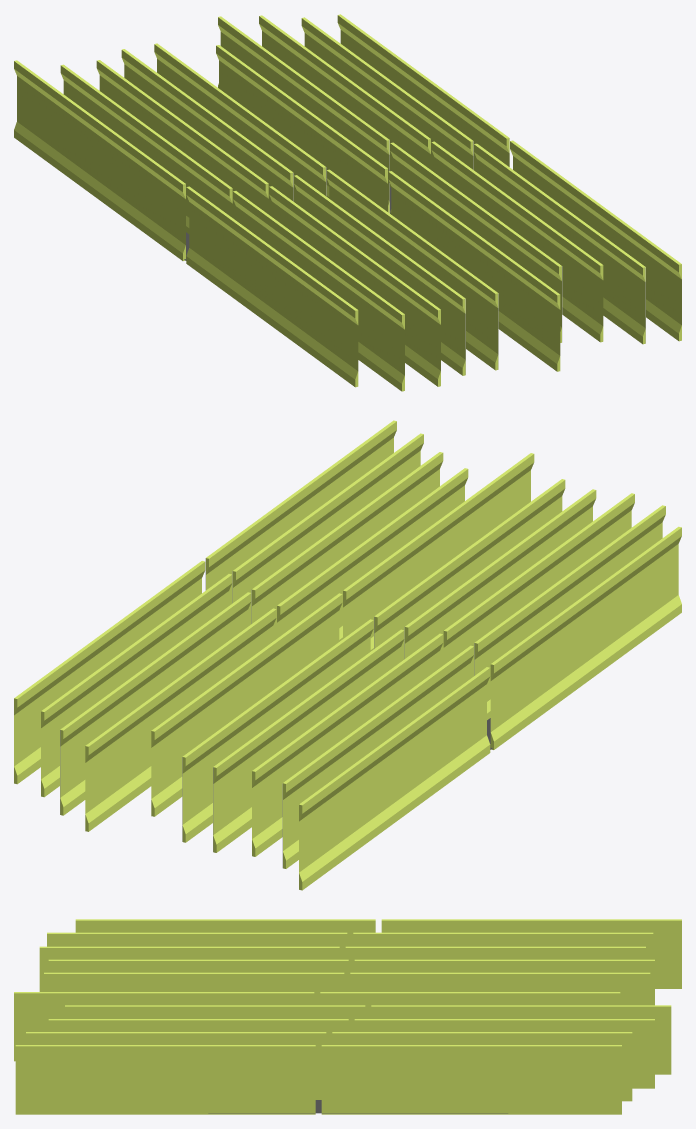
The model's file is Narrow_gap.dae.
3 renders of one model, top to bottom at view 1: azimuth 30°, elevation 25°; view 2: azimuth 150°, elevation 25°; view 3: azimuth 270°, elevation 25°, orthographic. The views are drawn at different scales.
Visible parts, largest first — view 1: node_9d605549_5368_4b3a_97e3_fd9809ce9aa7_mesh8, node_9d605549_5368_4b3a_97e3_fd9809ce9aa7_mesh6, node_9d605549_5368_4b3a_97e3_fd9809ce9aa7_mesh10, node_9d605549_5368_4b3a_97e3_fd9809ce9aa7_mesh4, node_9d605549_5368_4b3a_97e3_fd9809ce9aa7_mesh14, node_9d605549_5368_4b3a_97e3_fd9809ce9aa7_mesh13, node_9d605549_5368_4b3a_97e3_fd9809ce9aa7_mesh1, node_9d605549_5368_4b3a_97e3_fd9809ce9aa7_mesh0, node_9d605549_5368_4b3a_97e3_fd9809ce9aa7_mesh12, node_9d605549_5368_4b3a_97e3_fd9809ce9aa7_mesh16, node_9d605549_5368_4b3a_97e3_fd9809ce9aa7_mesh9, node_9d605549_5368_4b3a_97e3_fd9809ce9aa7_mesh7 (+8 smaller); view 2: node_9d605549_5368_4b3a_97e3_fd9809ce9aa7_mesh8, node_9d605549_5368_4b3a_97e3_fd9809ce9aa7_mesh6, node_9d605549_5368_4b3a_97e3_fd9809ce9aa7_mesh4, node_9d605549_5368_4b3a_97e3_fd9809ce9aa7_mesh3, node_9d605549_5368_4b3a_97e3_fd9809ce9aa7_mesh10, node_9d605549_5368_4b3a_97e3_fd9809ce9aa7_mesh17, node_9d605549_5368_4b3a_97e3_fd9809ce9aa7_mesh7, node_9d605549_5368_4b3a_97e3_fd9809ce9aa7_mesh19, node_9d605549_5368_4b3a_97e3_fd9809ce9aa7_mesh5, node_9d605549_5368_4b3a_97e3_fd9809ce9aa7_mesh18, node_9d605549_5368_4b3a_97e3_fd9809ce9aa7_mesh15, node_9d605549_5368_4b3a_97e3_fd9809ce9aa7_mesh20 (+8 smaller); view 3: node_9d605549_5368_4b3a_97e3_fd9809ce9aa7_mesh12, node_9d605549_5368_4b3a_97e3_fd9809ce9aa7_mesh18, node_9d605549_5368_4b3a_97e3_fd9809ce9aa7_mesh5, node_9d605549_5368_4b3a_97e3_fd9809ce9aa7_mesh16, node_9d605549_5368_4b3a_97e3_fd9809ce9aa7_mesh6, node_9d605549_5368_4b3a_97e3_fd9809ce9aa7_mesh10, node_9d605549_5368_4b3a_97e3_fd9809ce9aa7_mesh19, node_9d605549_5368_4b3a_97e3_fd9809ce9aa7_mesh3, node_9d605549_5368_4b3a_97e3_fd9809ce9aa7_mesh15, node_9d605549_5368_4b3a_97e3_fd9809ce9aa7_mesh14, node_9d605549_5368_4b3a_97e3_fd9809ce9aa7_mesh20, node_9d605549_5368_4b3a_97e3_fd9809ce9aa7_mesh0 (+9 smaller).
Part boxes in pixels (x1,y1,x2,y2): node_9d605549_5368_4b3a_97e3_fd9809ce9aa7_mesh8: [186, 186, 358, 387]; node_9d605549_5368_4b3a_97e3_fd9809ce9aa7_mesh6: [14, 60, 185, 260]; node_9d605549_5368_4b3a_97e3_fd9809ce9aa7_mesh10: [388, 171, 560, 371]; node_9d605549_5368_4b3a_97e3_fd9809ce9aa7_mesh4: [216, 45, 387, 211]; node_9d605549_5368_4b3a_97e3_fd9809ce9aa7_mesh14: [233, 191, 404, 391]; node_9d605549_5368_4b3a_97e3_fd9809ce9aa7_mesh13: [431, 141, 603, 342]; node_9d605549_5368_4b3a_97e3_fd9809ce9aa7_mesh1: [474, 143, 645, 344]; node_9d605549_5368_4b3a_97e3_fd9809ce9aa7_mesh0: [269, 186, 440, 386]; node_9d605549_5368_4b3a_97e3_fd9809ce9aa7_mesh12: [510, 140, 681, 341]; node_9d605549_5368_4b3a_97e3_fd9809ce9aa7_mesh16: [326, 169, 498, 370]; node_9d605549_5368_4b3a_97e3_fd9809ce9aa7_mesh9: [294, 175, 465, 375]; node_9d605549_5368_4b3a_97e3_fd9809ce9aa7_mesh7: [96, 60, 268, 220]; node_9d605549_5368_4b3a_97e3_fd9809ce9aa7_mesh8: [490, 526, 681, 749]; node_9d605549_5368_4b3a_97e3_fd9809ce9aa7_mesh6: [299, 667, 490, 890]; node_9d605549_5368_4b3a_97e3_fd9809ce9aa7_mesh4: [151, 593, 342, 816]; node_9d605549_5368_4b3a_97e3_fd9809ce9aa7_mesh3: [85, 608, 276, 831]; node_9d605549_5368_4b3a_97e3_fd9809ce9aa7_mesh10: [343, 453, 534, 651]; node_9d605549_5368_4b3a_97e3_fd9809ce9aa7_mesh17: [213, 629, 404, 852]; node_9d605549_5368_4b3a_97e3_fd9809ce9aa7_mesh7: [252, 633, 443, 856]; node_9d605549_5368_4b3a_97e3_fd9809ce9aa7_mesh19: [60, 592, 251, 815]; node_9d605549_5368_4b3a_97e3_fd9809ce9aa7_mesh5: [182, 619, 373, 842]; node_9d605549_5368_4b3a_97e3_fd9809ce9aa7_mesh18: [14, 561, 205, 784]; node_9d605549_5368_4b3a_97e3_fd9809ce9aa7_mesh15: [282, 645, 473, 868]; node_9d605549_5368_4b3a_97e3_fd9809ce9aa7_mesh20: [41, 574, 232, 797]; node_9d605549_5368_4b3a_97e3_fd9809ce9aa7_mesh12: [15, 1045, 315, 1114]; node_9d605549_5368_4b3a_97e3_fd9809ce9aa7_mesh18: [321, 1045, 621, 1114]; node_9d605549_5368_4b3a_97e3_fd9809ce9aa7_mesh5: [350, 972, 650, 1005]; node_9d605549_5368_4b3a_97e3_fd9809ce9aa7_mesh16: [44, 972, 344, 1005]; node_9d605549_5368_4b3a_97e3_fd9809ce9aa7_mesh6: [381, 919, 681, 988]; node_9d605549_5368_4b3a_97e3_fd9809ce9aa7_mesh10: [14, 992, 314, 1061]; node_9d605549_5368_4b3a_97e3_fd9809ce9aa7_mesh19: [354, 1019, 654, 1088]; node_9d605549_5368_4b3a_97e3_fd9809ce9aa7_mesh3: [371, 1005, 671, 1074]; node_9d605549_5368_4b3a_97e3_fd9809ce9aa7_mesh15: [353, 932, 653, 959]; node_9d605549_5368_4b3a_97e3_fd9809ce9aa7_mesh14: [47, 932, 347, 959]; node_9d605549_5368_4b3a_97e3_fd9809ce9aa7_mesh20: [332, 1032, 632, 1101]; node_9d605549_5368_4b3a_97e3_fd9809ce9aa7_mesh0: [39, 946, 339, 991].
Size of the model in its own units: 5018 by 1250 by 11125.
